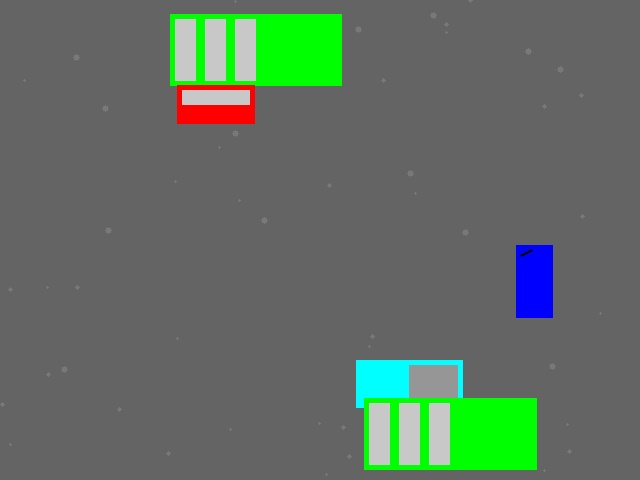bus: (364, 398, 536, 469), (170, 14, 341, 85)
car: (177, 85, 254, 123)
motorcycle: (516, 245, 552, 317)
truck: (356, 360, 462, 407)
